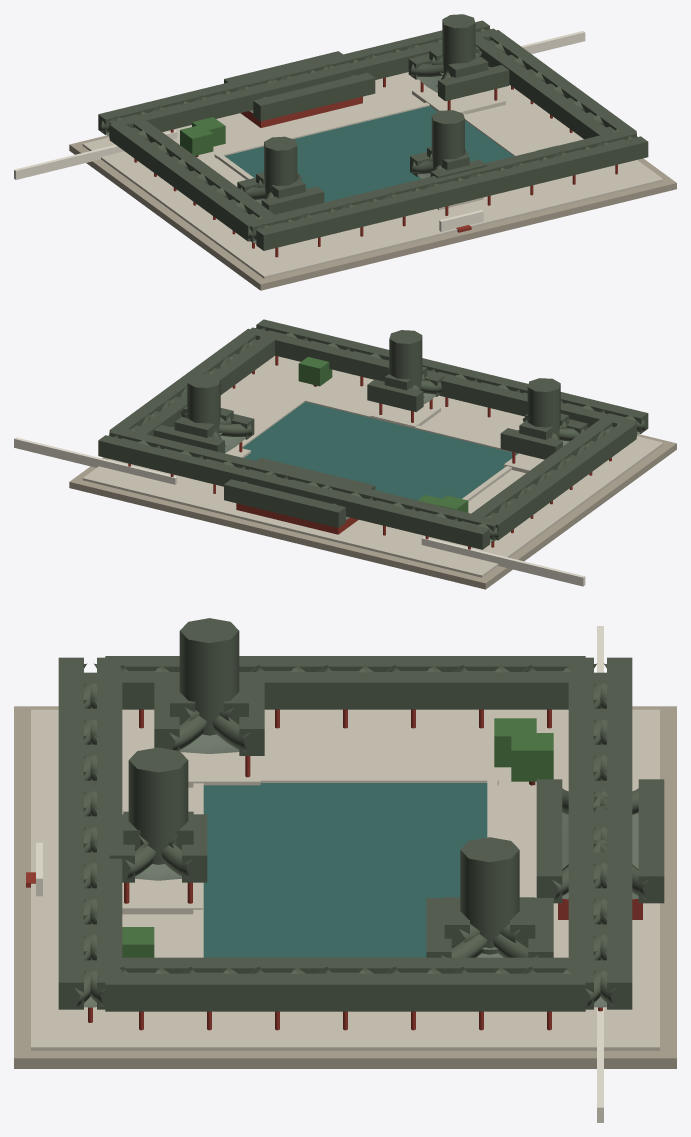
3 views of the same model, one above another, from view 1: azimuth 30°, elevation 25°; view 2: azimuth 150°, elevation 25°; view 3: azimuth 270°, elevation 25° (orthographic). The views are drawn at different scales.
Size of the model in its own units: 1.34 by 0.196 by 0.78.
